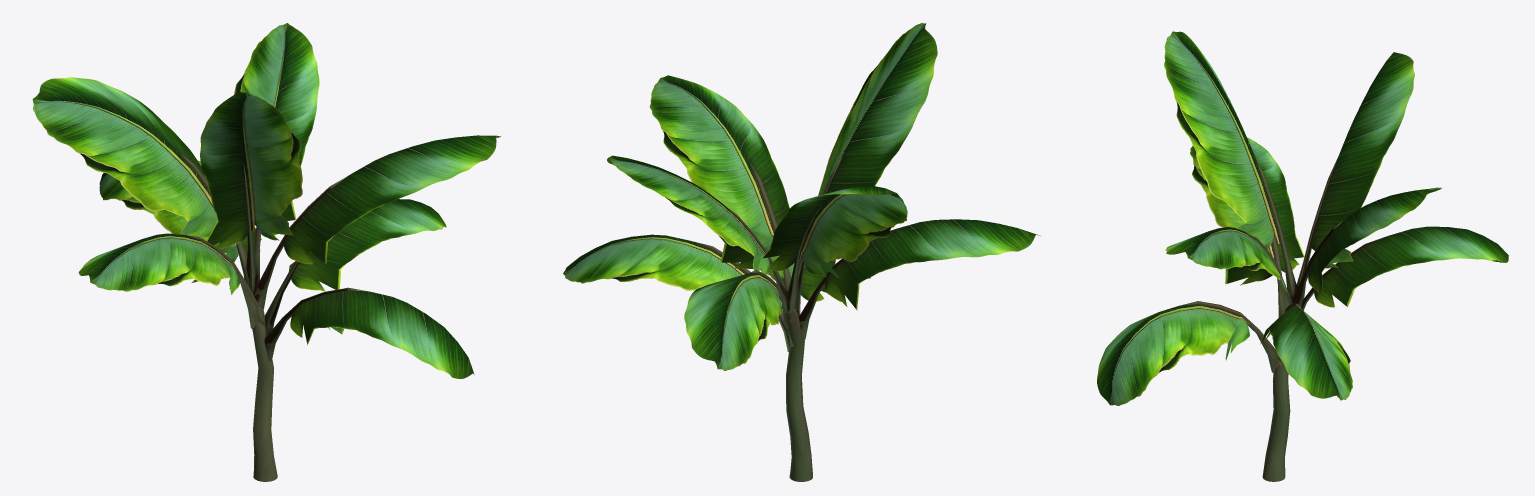
Rendered from banan_1.glb.
3 renders of one model, left to right at view 1: azimuth 30°, elevation 25°; view 2: azimuth 150°, elevation 25°; view 3: azimuth 270°, elevation 25°, orthographic. The views are drawn at different scales.
Visible parts, largest first — view 1: SM_MZRa_Banana_B092_MI_MZRa_Banana_B09a_0, SM_MZRa_Banana_B092_MI_MZRa_Banana_B09b_0; view 2: SM_MZRa_Banana_B092_MI_MZRa_Banana_B09a_0, SM_MZRa_Banana_B092_MI_MZRa_Banana_B09b_0; view 3: SM_MZRa_Banana_B092_MI_MZRa_Banana_B09a_0, SM_MZRa_Banana_B092_MI_MZRa_Banana_B09b_0.
Part boxes in pixels (x1,y1,x2,y2): SM_MZRa_Banana_B092_MI_MZRa_Banana_B09a_0: (32,23,500,378); SM_MZRa_Banana_B092_MI_MZRa_Banana_B09b_0: (176,149,367,481); SM_MZRa_Banana_B092_MI_MZRa_Banana_B09a_0: (563,23,1040,370); SM_MZRa_Banana_B092_MI_MZRa_Banana_B09b_0: (690,156,894,481); SM_MZRa_Banana_B092_MI_MZRa_Banana_B09a_0: (1097,31,1508,405); SM_MZRa_Banana_B092_MI_MZRa_Banana_B09b_0: (1180,157,1385,481).
Bounding box in the file's own units: 2.92 × 2.77 × 2.61.
2 materials, 2 textured.
